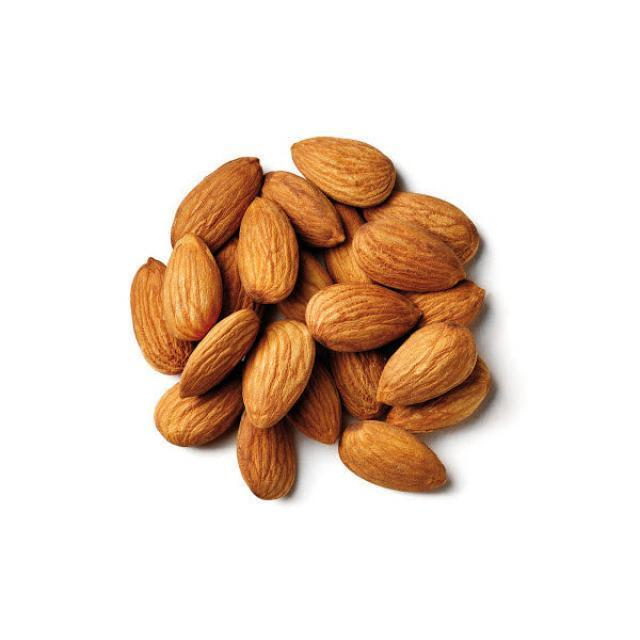almond: (165, 154, 265, 251), (370, 321, 479, 407), (353, 217, 467, 294), (241, 318, 318, 428), (129, 255, 198, 377), (176, 306, 261, 402), (362, 193, 482, 261), (306, 282, 422, 352), (288, 137, 397, 211), (337, 420, 449, 492), (152, 372, 244, 447), (237, 197, 299, 304), (162, 237, 225, 342), (233, 411, 299, 498)
